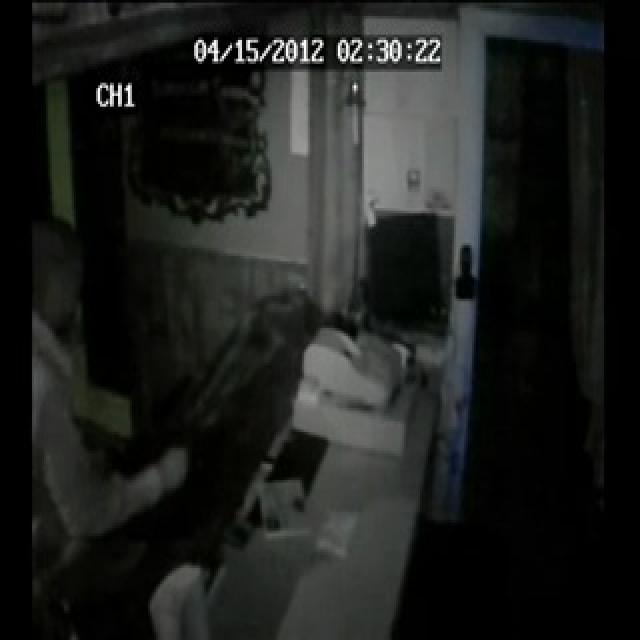thief: (32, 215, 90, 384)
